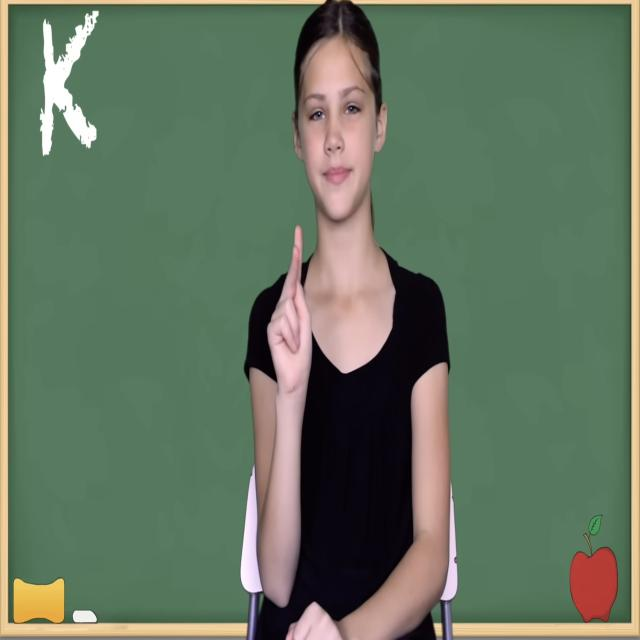K: (260, 212, 328, 418)
